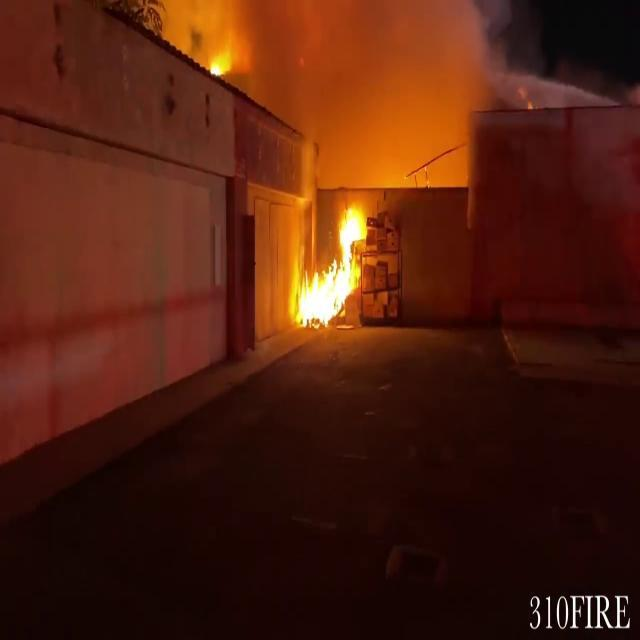Fire: (290, 197, 376, 331)
